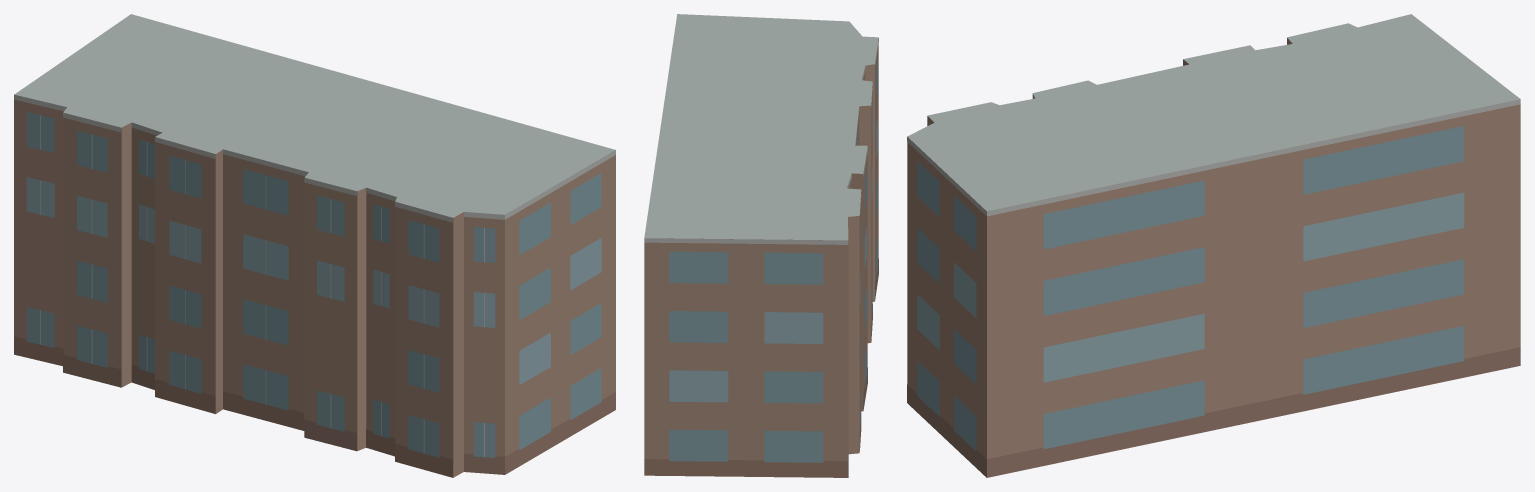
The model's file is survey-upis-32627442.glb.
3 views of the same model, side by side, from view 1: azimuth 30°, elevation 25°; view 2: azimuth 150°, elevation 25°; view 3: azimuth 270°, elevation 25° (orthographic). The views are drawn at different scales.
Visible parts, largest first — view 1: survey-upis-32627442.tmp; view 2: survey-upis-32627442.tmp; view 3: survey-upis-32627442.tmp.
Part boxes in pixels (x1,y1,x2,y2): survey-upis-32627442.tmp: [14, 14, 615, 477]; survey-upis-32627442.tmp: [644, 14, 878, 477]; survey-upis-32627442.tmp: [907, 14, 1520, 477].
Size of the model in its own units: 20.34 by 12.8 by 26.72.
